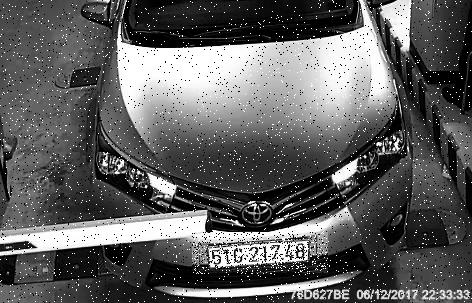License-plate: (193, 234, 329, 276)
